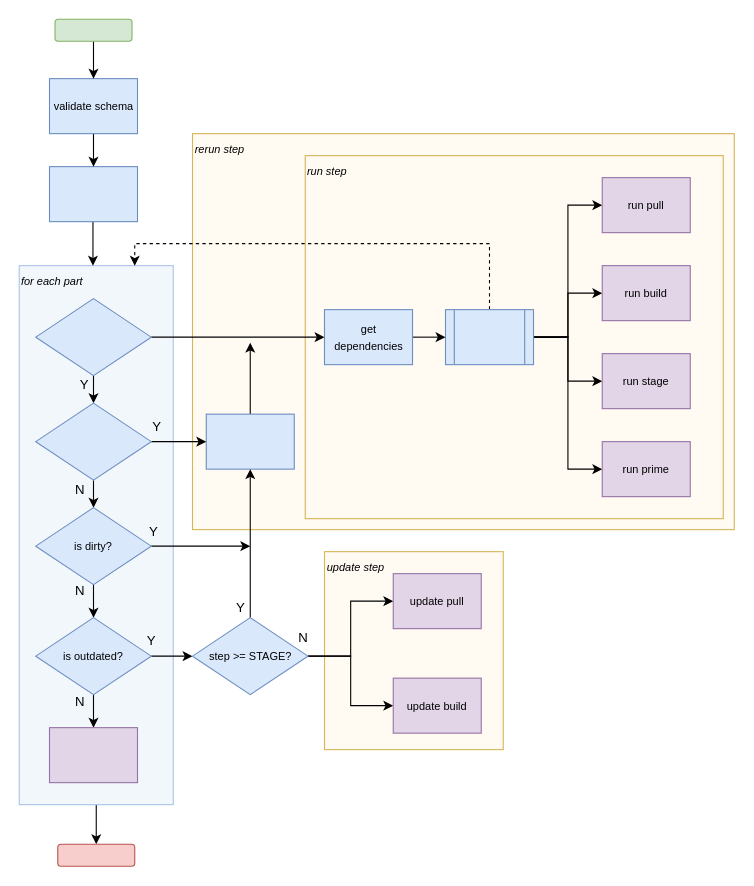
Image size: 754x886. Some labels were removed from this diagram. Each missing label, with the centre of its shape:
"clean step" goes at point (249, 441).
"end" goes at point (96, 854).
"explicit request?" goes at point (93, 441).
"install build packages" goes at point (93, 194).
"run lifecycle for each dep" goes at point (489, 337).
"skip step" goes at point (93, 755).
"start" goes at point (93, 29).
"step already ran?" goes at point (93, 337).
